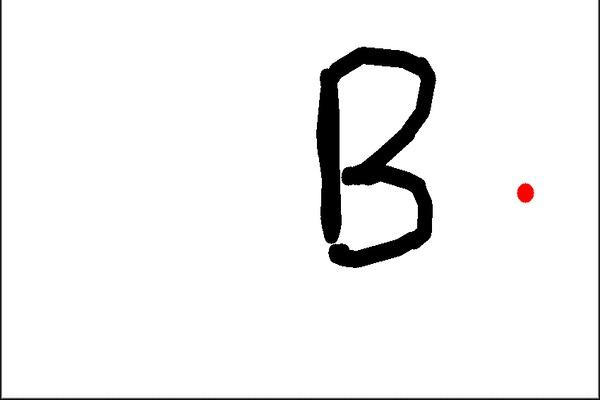B: (302, 40, 445, 278)
